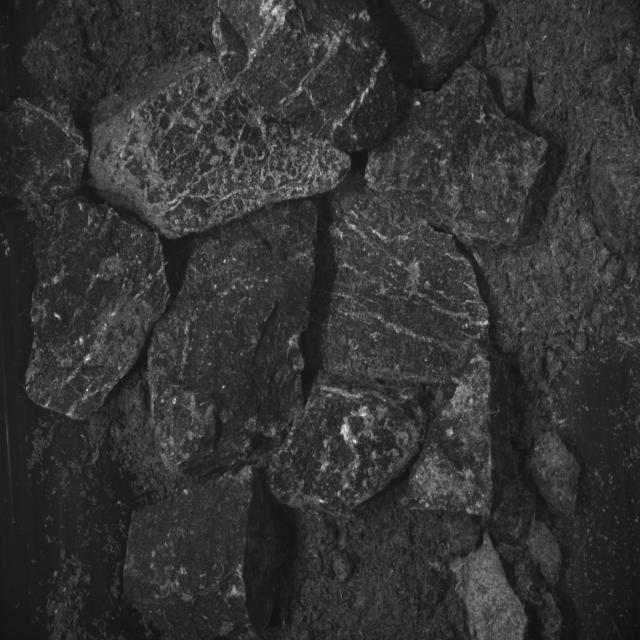Stones: (90, 55, 351, 240), (149, 200, 317, 474), (322, 188, 490, 387), (366, 66, 549, 245), (27, 199, 170, 420), (214, 1, 396, 153), (125, 468, 277, 639), (270, 385, 427, 515), (407, 355, 494, 517), (370, 1, 486, 91), (1, 99, 89, 204), (451, 534, 529, 640), (529, 433, 581, 517)
